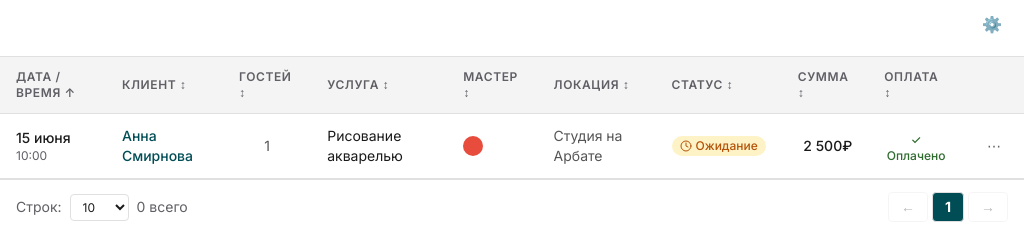
Test: RecordsTable › clicking ⋯ opens the row menu with data-testid dropdown-<id> and role=menu
Step 1. Click the button named "Действия" → (994, 146), box [980, 132, 1008, 160]
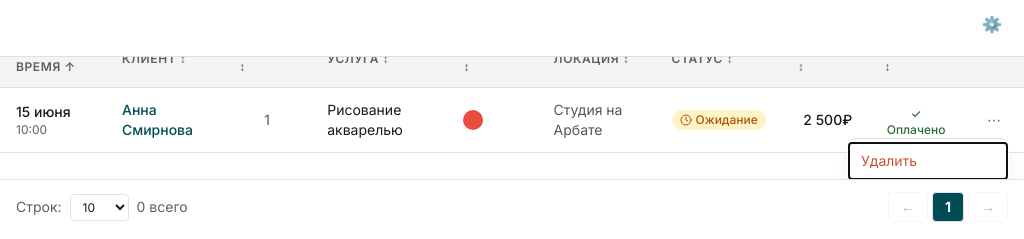
Result: the menu with test id "dropdown-rec-1" is shown at [848, 138, 1008, 179]
Result: the menu item "Удалить" is shown at [849, 143, 1007, 179]
